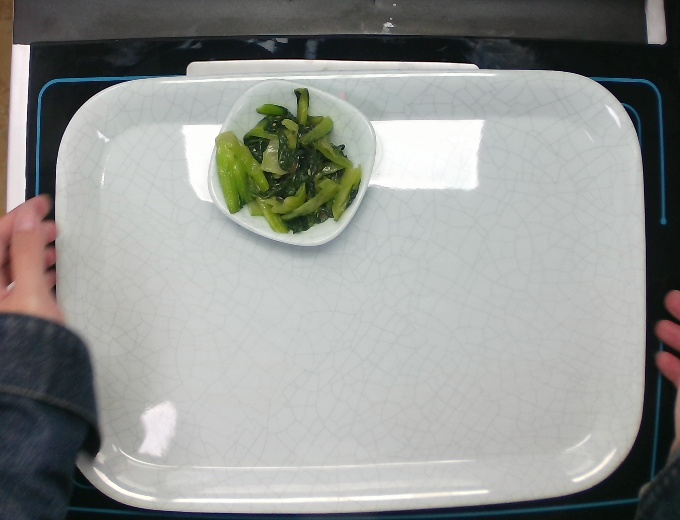JYsf-Si_Fang_Die: (208, 77, 383, 248)
